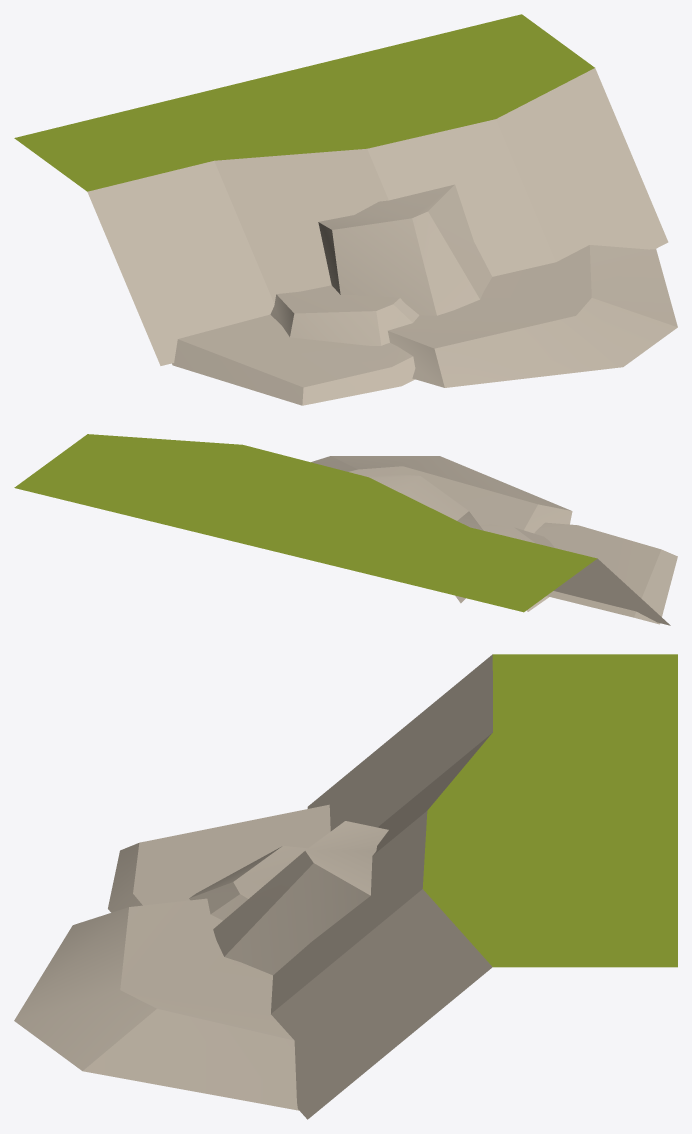
The model's file is Grid_Cell_Water_C.DAE.
3 views of the same model, one above another, from view 1: azimuth 30°, elevation 25°; view 2: azimuth 150°, elevation 25°; view 3: azimuth 270°, elevation 25° (orthographic). The views are drawn at different scales.
Visible parts, largest first — view 1: Bank3; view 2: Bank3; view 3: Bank3.
Part boxes in pixels (<box>): Bank3: <box>14,14,677,405</box>; Bank3: <box>14,434,677,625</box>; Bank3: <box>14,654,677,1119</box>.
Bounding box in the file's own units: 1 × 0.2305 × 0.8964.
